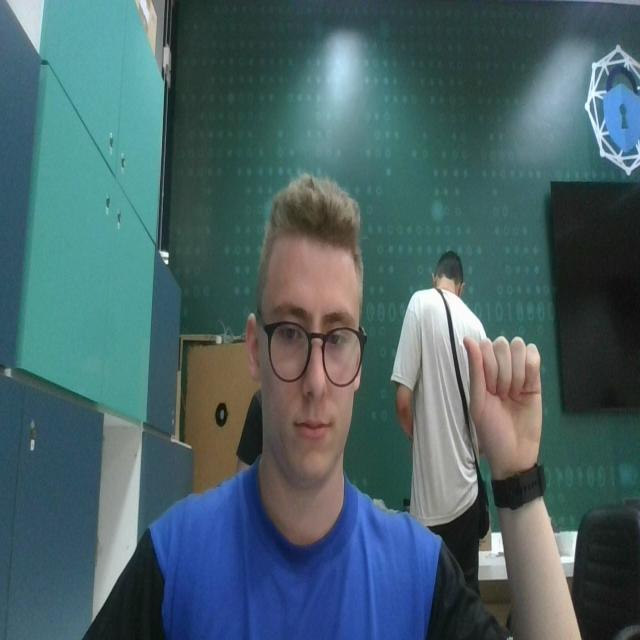A: (461, 334, 546, 464)
